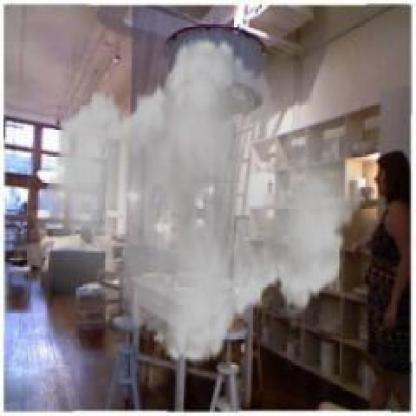Smoke: (30, 23, 369, 377)
